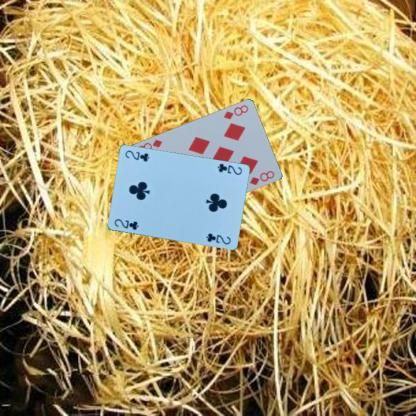2c: (214, 161, 244, 176), (111, 217, 140, 231)
8d: (220, 102, 250, 121)
